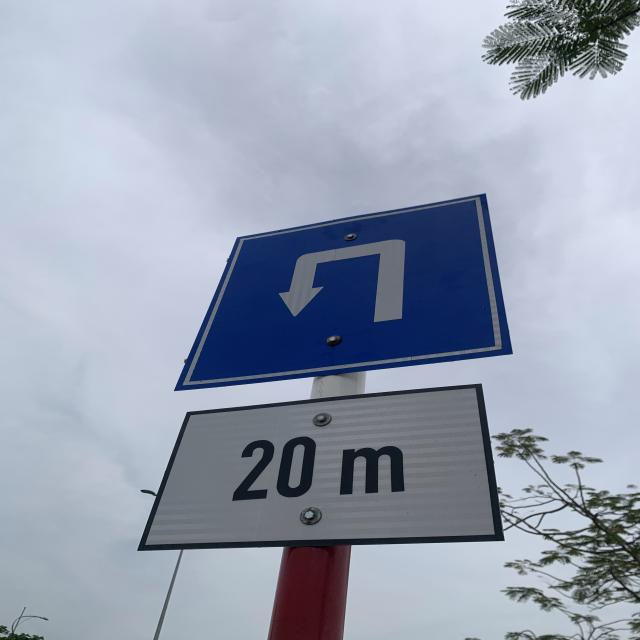Den_Giao_Thong: (170, 190, 516, 393)
